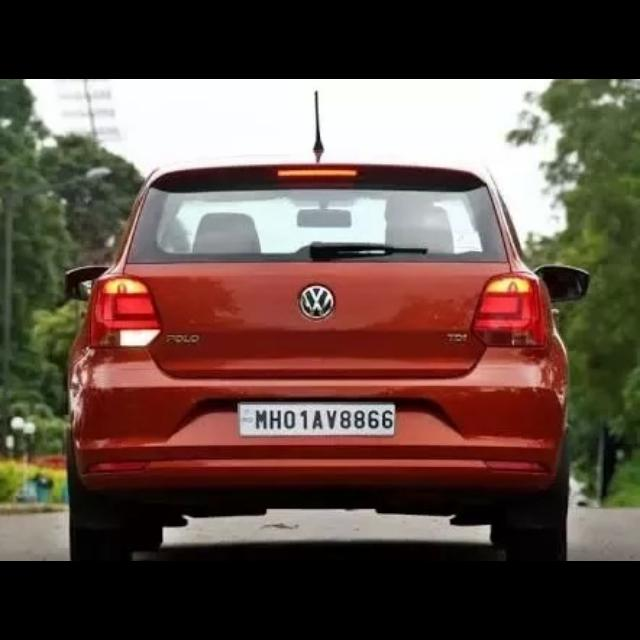carPlate: (239, 404, 395, 436)
